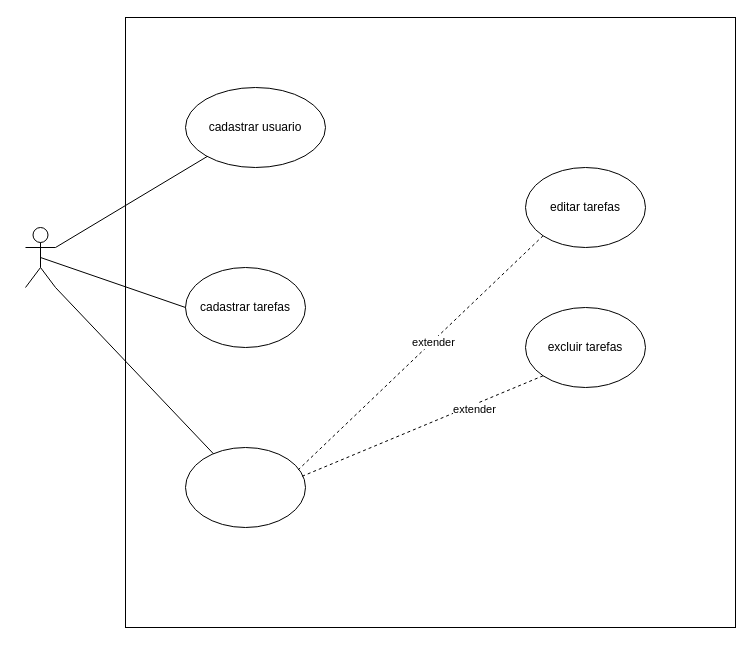
This 753x645 diagram has some shape labels left out. The shapes that lost their labels are listed below. From the top down, each one's centre as x and y in pixels, then its label:
(x=40, y=257): Usuarios
(x=245, y=487): gerenciar Tarefas
